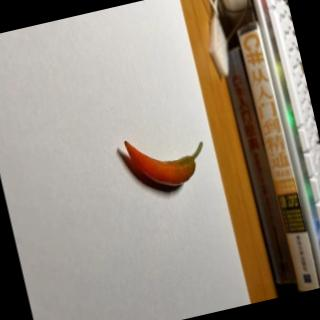Cabai Merah: (124, 124, 212, 196)
